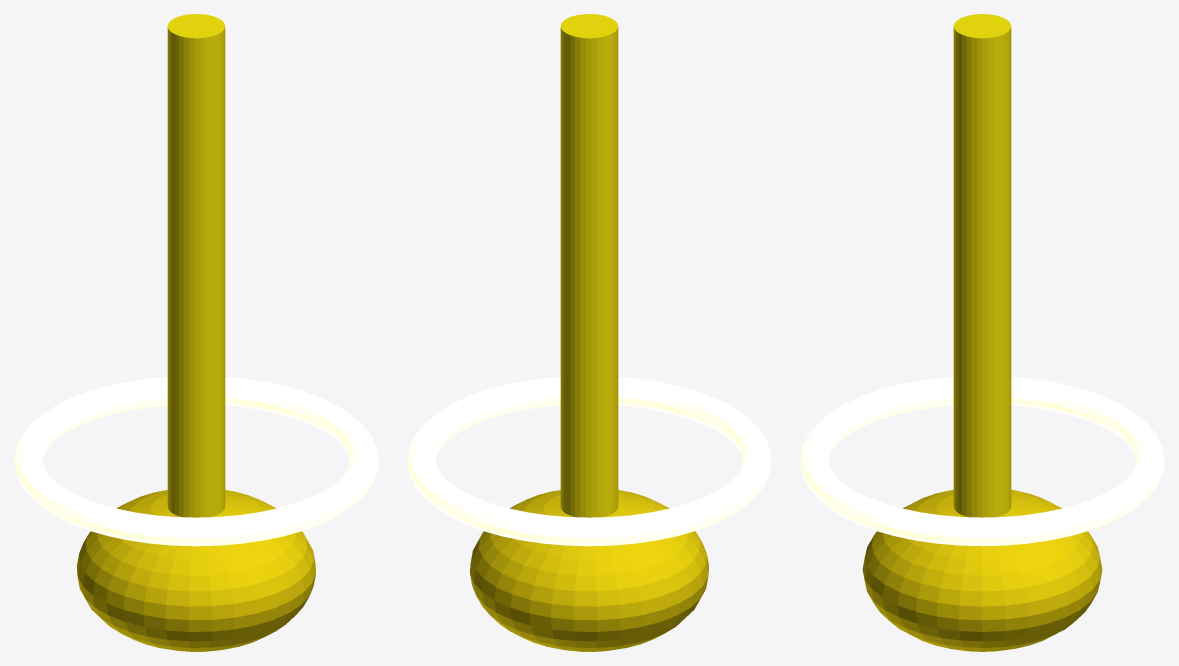
File: GoldenPlunger.fbx
The picture shows the model from 3 angles, left to right: view 1: azimuth 30°, elevation 25°; view 2: azimuth 150°, elevation 25°; view 3: azimuth 270°, elevation 25°; orthographic projection.
Parts seen in each view (by area): view 1: Plunger_Handle, Plunger_Cup, Plunger_GlowRing; view 2: Plunger_Handle, Plunger_Cup, Plunger_GlowRing; view 3: Plunger_Handle, Plunger_Cup, Plunger_GlowRing.
Part boxes in pixels (left/top/right/bottom): Plunger_Handle: left=167, top=14, right=225, bottom=517; Plunger_Cup: left=77, top=490, right=315, bottom=651; Plunger_GlowRing: left=14, top=377, right=378, bottom=546; Plunger_Handle: left=560, top=14, right=618, bottom=517; Plunger_Cup: left=470, top=490, right=708, bottom=651; Plunger_GlowRing: left=407, top=377, right=771, bottom=546; Plunger_Handle: left=953, top=14, right=1011, bottom=517; Plunger_Cup: left=862, top=490, right=1102, bottom=651; Plunger_GlowRing: left=800, top=376, right=1164, bottom=546.
Bounding box in the file's own units: 0.76 × 1.4 × 0.76.
